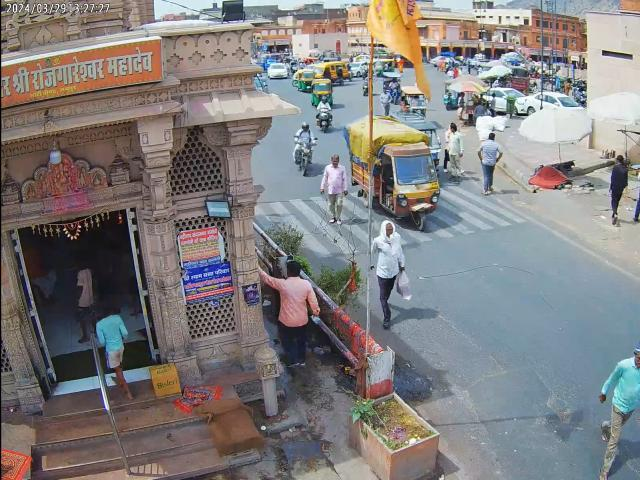lorry: (342, 115, 441, 231)
motorbike-rider: (294, 124, 316, 180)
person: (258, 258, 321, 376), (95, 305, 134, 403), (372, 222, 404, 328), (321, 155, 347, 226), (476, 132, 503, 192), (607, 154, 629, 226), (76, 272, 96, 339), (447, 118, 465, 179)
